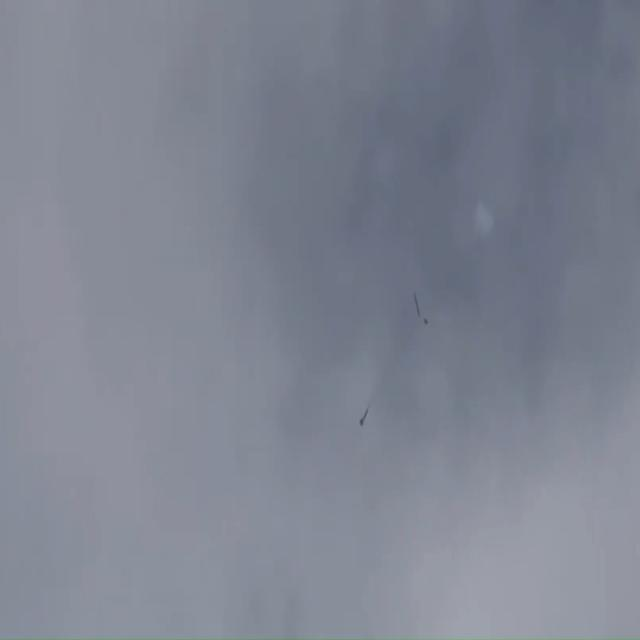Rocket: (360, 409, 368, 426)
